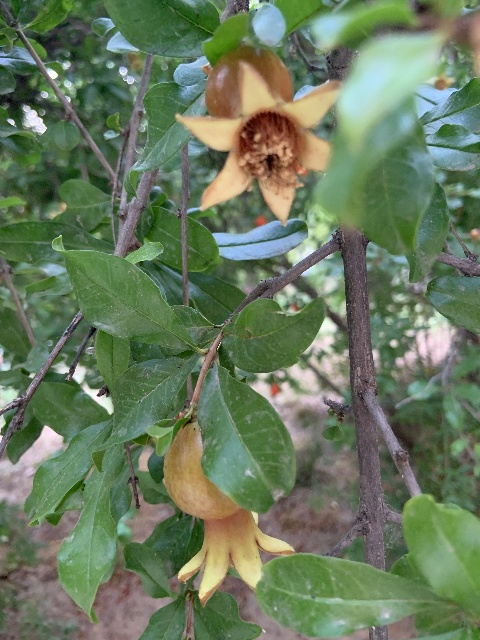early-fruit: (175, 44, 342, 225), (163, 422, 296, 608)
